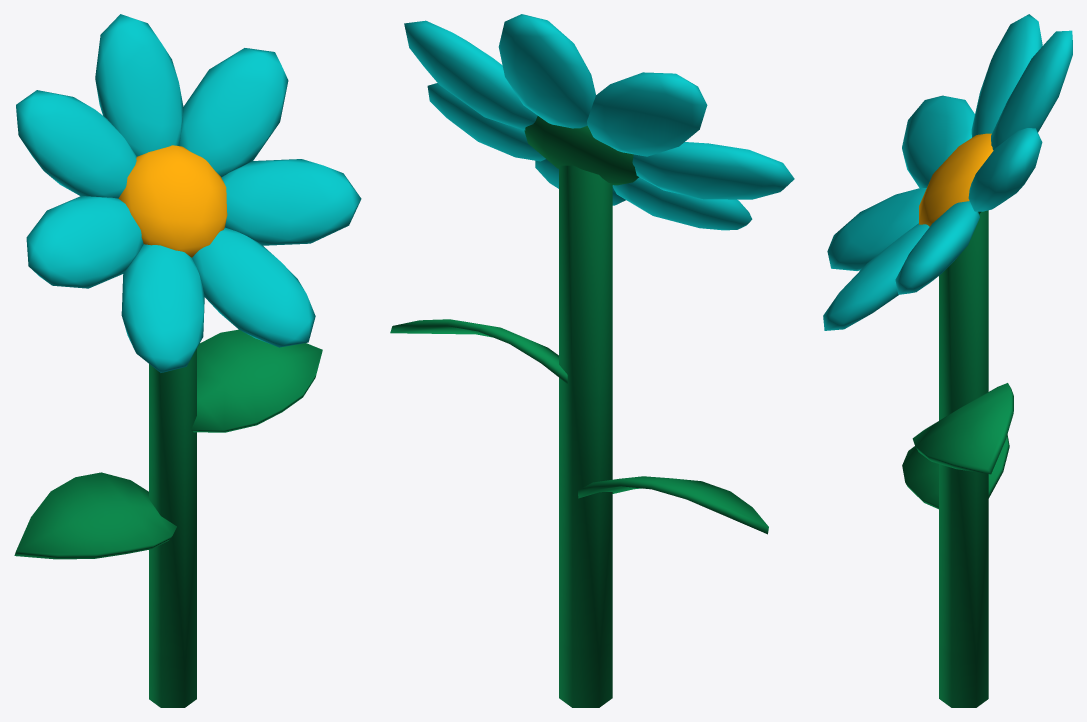
Rendered from Flover_01.03.fbx.
3 views of the same model, side by side, from view 1: azimuth 30°, elevation 25°; view 2: azimuth 150°, elevation 25°; view 3: azimuth 270°, elevation 25° (orthographic). The views are drawn at different scales.
Visible parts, largest first — view 1: Flover_01.03; view 2: Flover_01.03; view 3: Flover_01.03.
Part boxes in pixels (bbox=[...]): Flover_01.03: bbox=[14, 14, 361, 707]; Flover_01.03: bbox=[390, 14, 794, 707]; Flover_01.03: bbox=[823, 14, 1072, 707].
Bounding box in the file's own units: 20.47 × 13.04 × 38.5.
